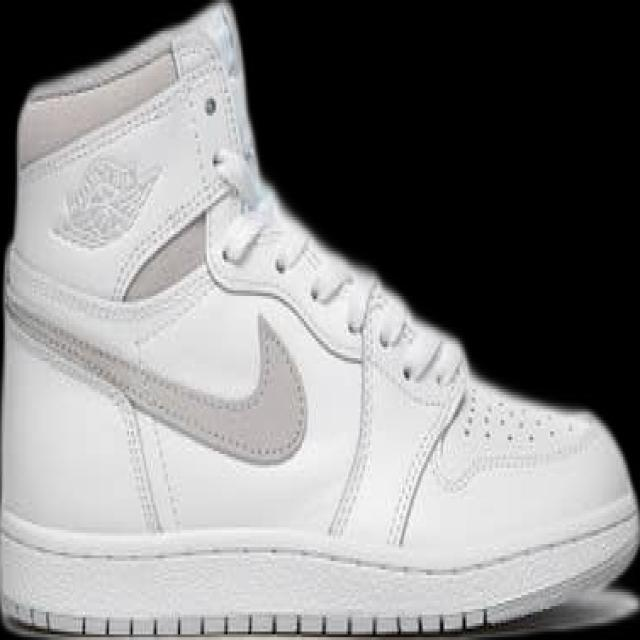J1_InsoleChar: (1, 2, 637, 636)
J1_ShoeLogo: (48, 154, 161, 251)
J1_StitchPattern: (8, 263, 578, 550), (11, 153, 274, 531), (210, 211, 470, 546), (4, 289, 308, 465), (5, 292, 185, 533), (325, 283, 469, 547), (4, 602, 492, 636), (108, 172, 234, 300), (384, 362, 469, 548), (324, 282, 383, 541), (109, 391, 184, 534)
